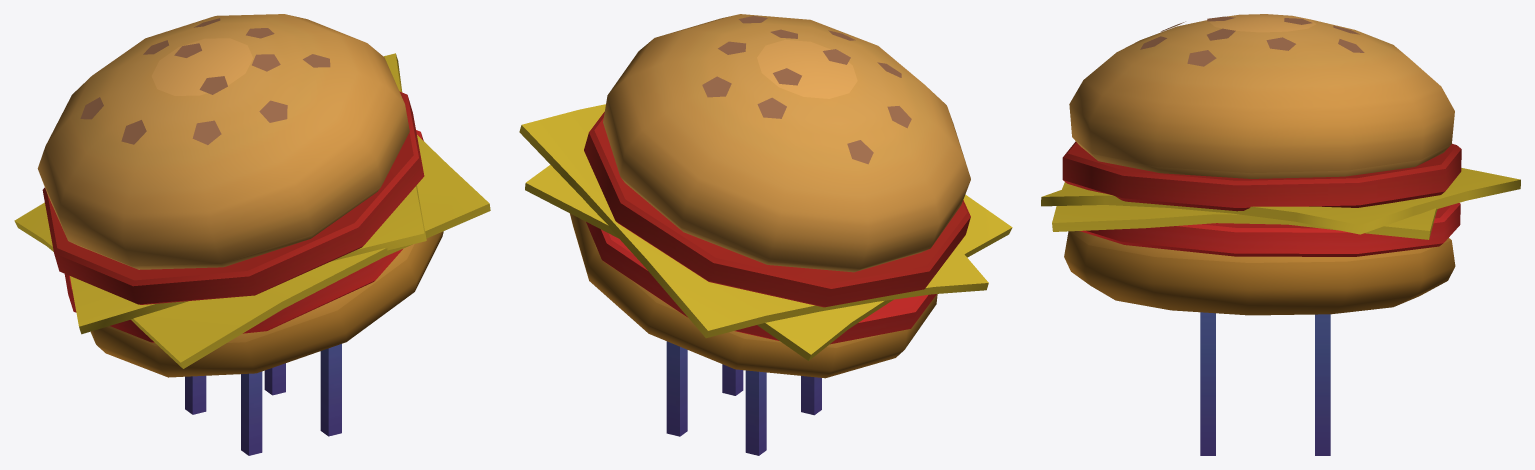
The model's file is BurgerSign_4_B.fbx.
3 renders of one model, left to right at view 1: azimuth 30°, elevation 25°; view 2: azimuth 150°, elevation 25°; view 3: azimuth 270°, elevation 25°, orthographic. The views are drawn at different scales.
Parts seen in each view (by area): view 1: BurgerSign_4_B; view 2: BurgerSign_4_B; view 3: BurgerSign_4_B.
Boxes of the visible parts, x1,y1,x2,y2 form: BurgerSign_4_B: [14, 14, 490, 455]; BurgerSign_4_B: [519, 14, 1012, 455]; BurgerSign_4_B: [1041, 14, 1520, 455].
Size of the model in its own units: 266 by 246 by 273.
